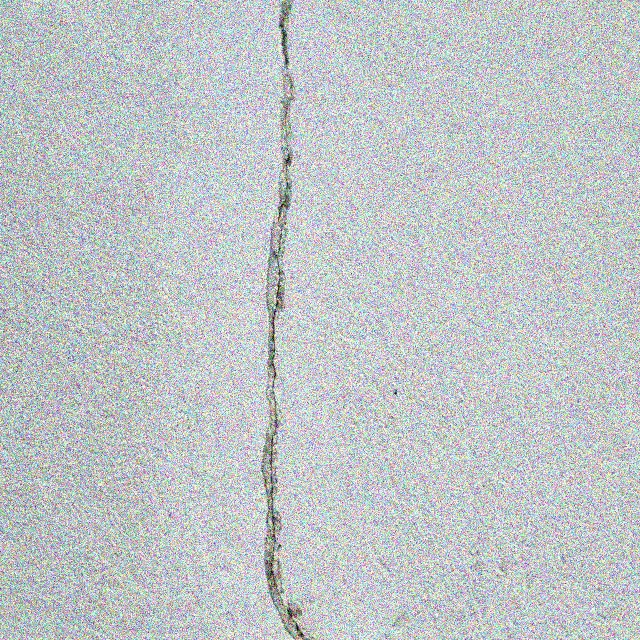SurfaceCrack: (216, 0, 353, 640)
